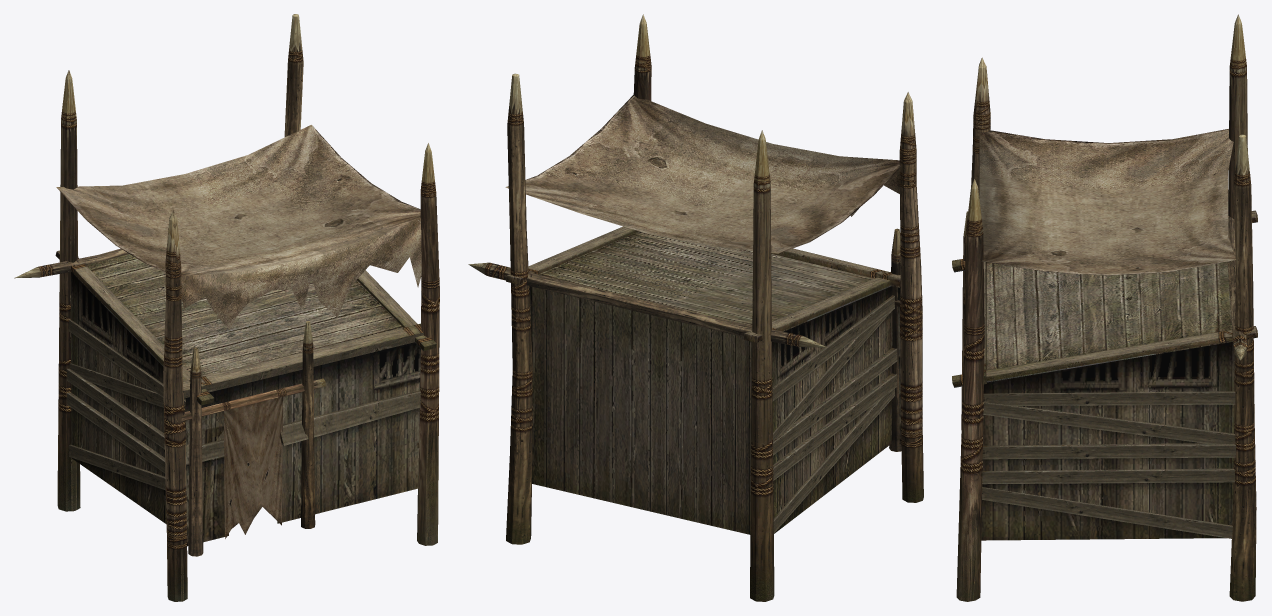
Rendered from gaint_buildb_02.fbx.
The picture shows the model from 3 angles, left to right: view 1: azimuth 30°, elevation 25°; view 2: azimuth 150°, elevation 25°; view 3: azimuth 270°, elevation 25°; orthographic projection. The views are drawn at different scales.
Visible parts, largest first — view 1: Object25, objobjobjObject05, Object02, Object01; view 2: Object25, objobjobjObject05, Object02, Object01; view 3: Object25, objobjobjObject05, Object02, Object01.
Part boxes in pixels (x1,y1,x2,y2): Object25: (55,250,436,546); objobjobjObject05: (56,125,421,329); Object02: (57,14,439,601); Object01: (14,248,325,556); Object25: (506,226,901,534); objobjobjObject05: (505,95,901,253); Object02: (506,14,923,601); Object01: (468,228,901,451); Object25: (952,210,1257,540); objobjobjObject05: (978,129,1235,275); Object02: (956,14,1256,601); Object01: (961,211,1247,429).
Bounding box in the file's own units: 9.75 × 12.25 × 7.3.
